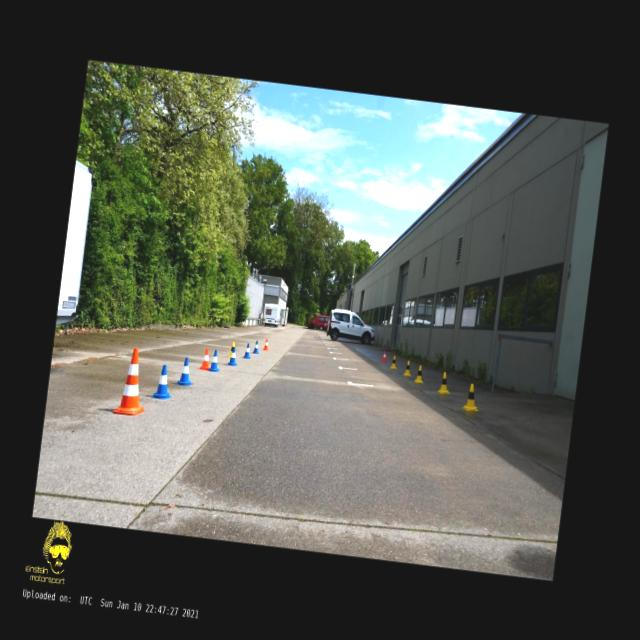blue_cone: (150, 364, 174, 399), (177, 356, 194, 386), (208, 349, 222, 372), (227, 346, 238, 365), (243, 342, 252, 358), (253, 339, 260, 354)
large_orange_cone: (112, 346, 151, 416)
orange_cone: (200, 348, 212, 370), (263, 338, 269, 349), (381, 349, 386, 362)
yellow_cone: (461, 382, 480, 412), (436, 371, 452, 394), (414, 364, 424, 384), (402, 359, 412, 376), (228, 340, 235, 358), (389, 354, 397, 369)
